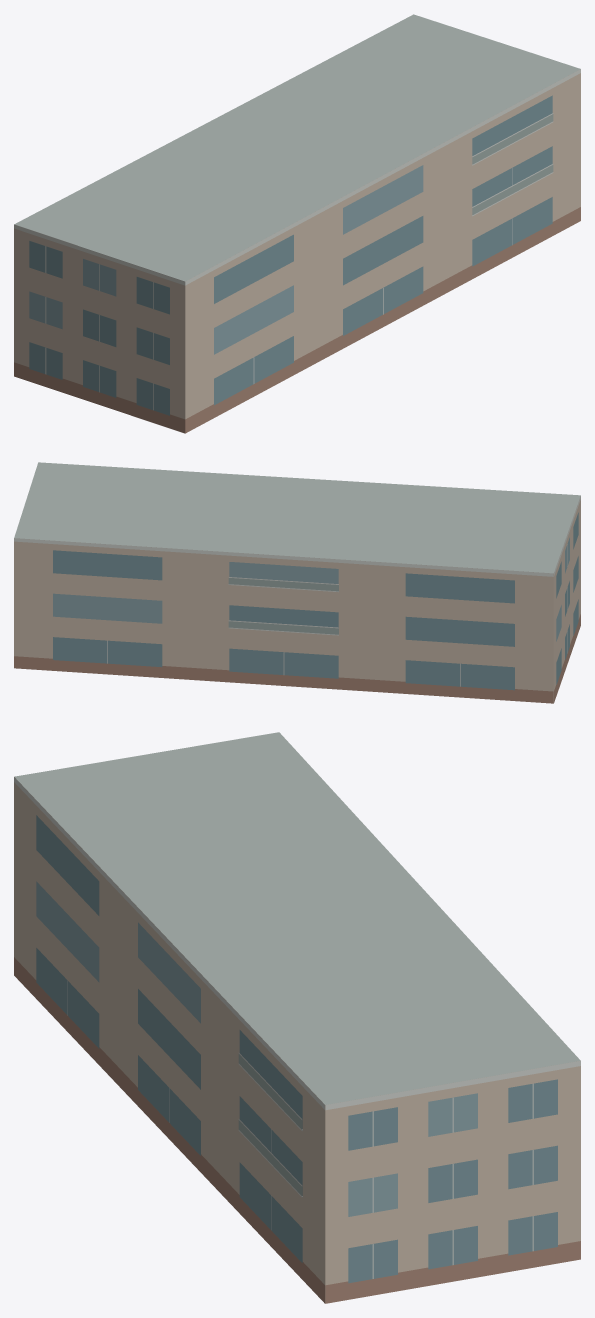
The model's file is survey-upis-32841670.glb.
The picture shows the model from 3 angles, top to bottom: view 1: azimuth 30°, elevation 25°; view 2: azimuth 150°, elevation 25°; view 3: azimuth 270°, elevation 25°; orthographic projection. The views are drawn at different scales.
Visible parts, largest first — view 1: survey-upis-32841670.tmp; view 2: survey-upis-32841670.tmp; view 3: survey-upis-32841670.tmp.
Part boxes in pixels (x1,y1,x2,y2): survey-upis-32841670.tmp: (14,14,580,433); survey-upis-32841670.tmp: (14,462,580,703); survey-upis-32841670.tmp: (14,732,580,1303).
Bounding box in the file's own units: 36.83 × 9.15 × 23.65.
